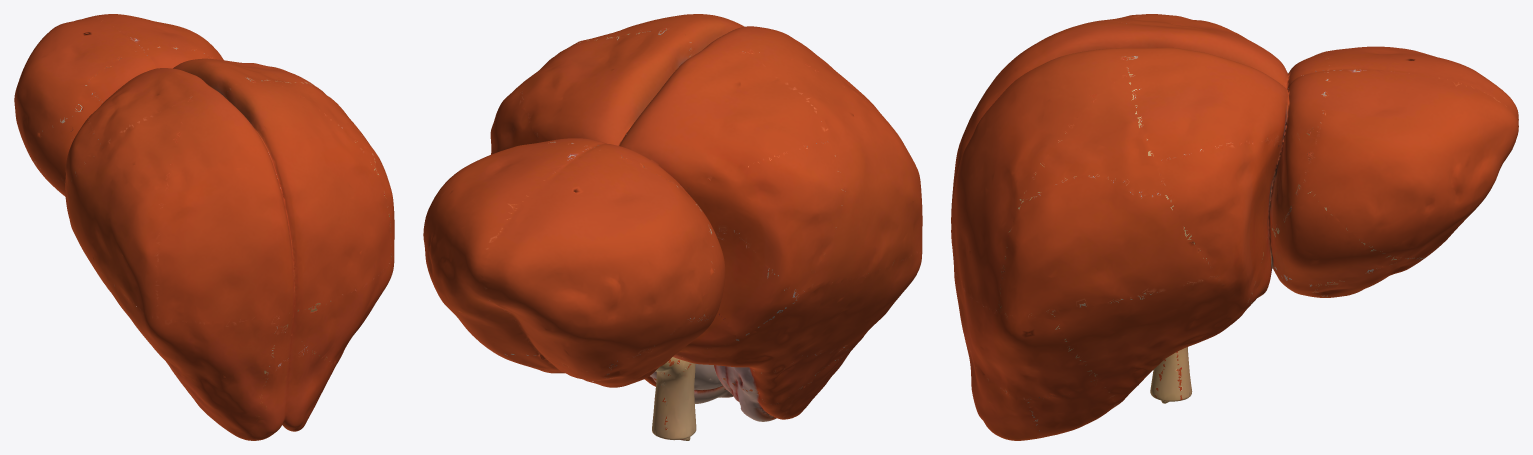
The model's file is fatty-liver-disease.glb.
3 renders of one model, left to right at view 1: azimuth 30°, elevation 25°; view 2: azimuth 150°, elevation 25°; view 3: azimuth 270°, elevation 25°, orthographic. The views are drawn at different scales.
Visible parts, largest first — view 1: FattyLiverDisease; view 2: FattyLiverDisease; view 3: FattyLiverDisease.
Boxes of the visible parts, <box> form: FattyLiverDisease: <box>14,14,394,440</box>; FattyLiverDisease: <box>423,14,922,440</box>; FattyLiverDisease: <box>951,14,1518,440</box>.
Size of the model in its own units: 0.6668 by 0.7469 by 1.
1 material, 1 textured.
